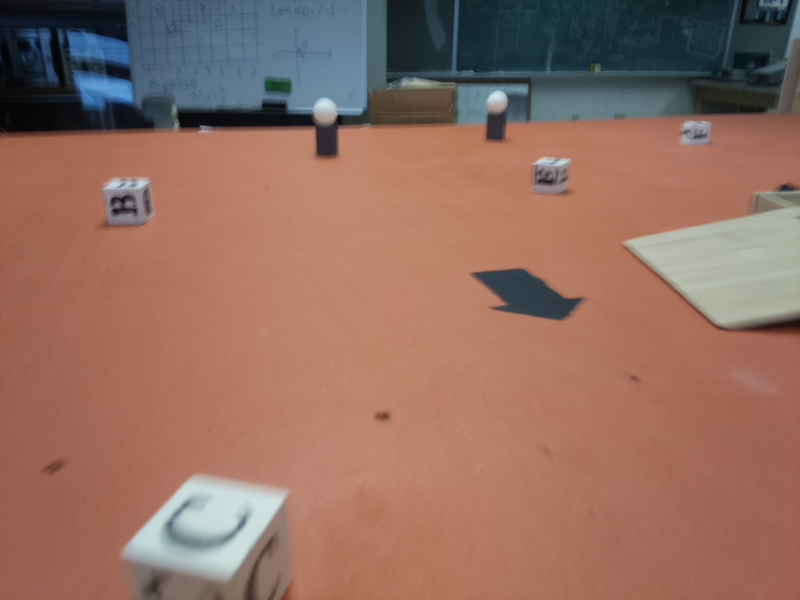blockB: (107, 173, 155, 230)
blockC: (116, 474, 301, 600)
blockE: (529, 157, 574, 198)
blockF: (679, 118, 716, 149)
obstacle: (309, 98, 340, 158), (481, 92, 510, 143)
slope: (620, 203, 800, 339)
start: (471, 258, 583, 333)
